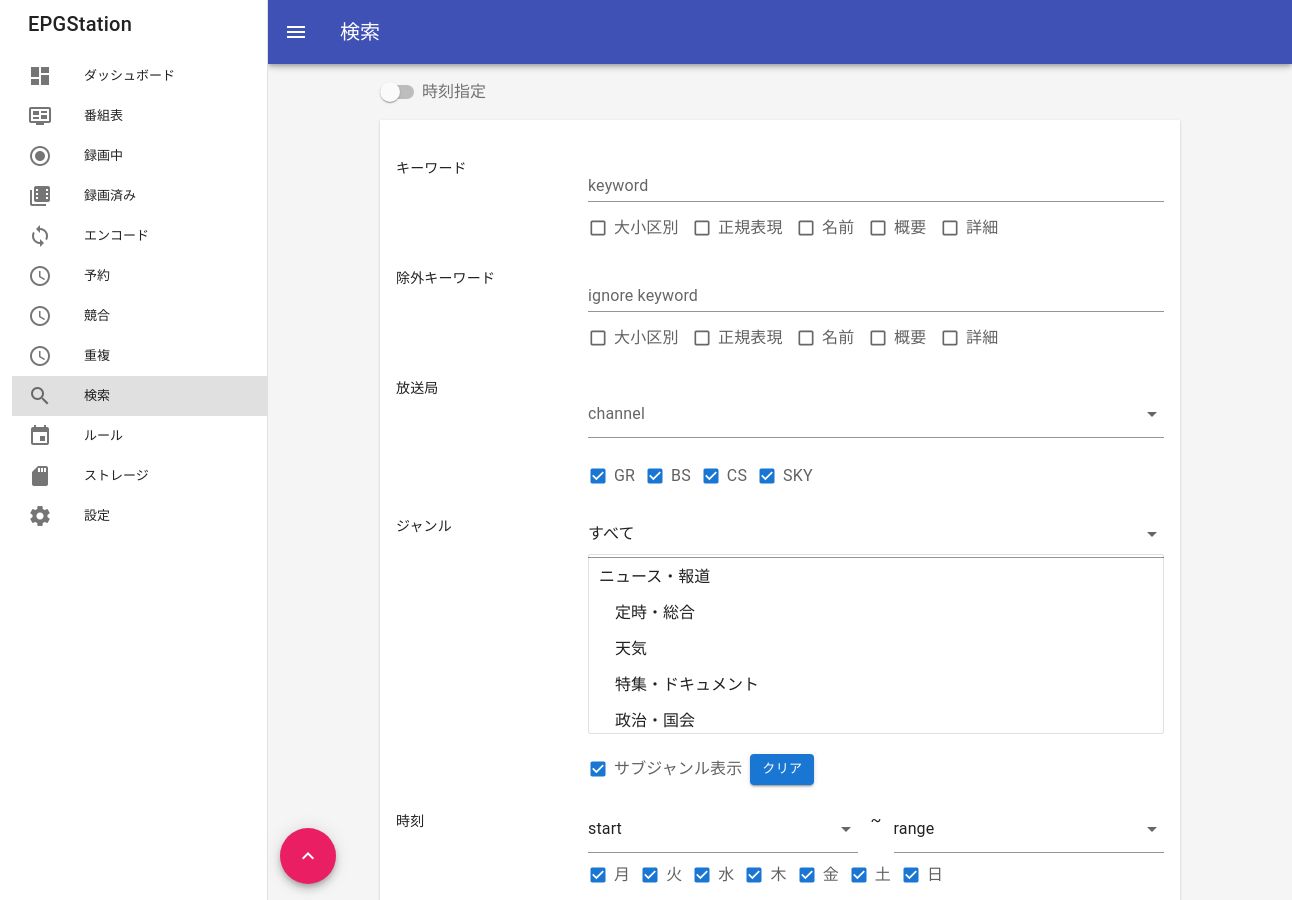
Search route lifecycle › [AC 2.38] lets a plain /search navigation switch to the time-specified rule form
Expected: the heading "検索" is shown, [340,20,380,44]
Expected: the field labelled "keyword" is shown, [588,170,1164,202]
Click the switch labelled "時刻指定". click: point(433, 92)
box: [380,76,486,108]
(page scrolled)
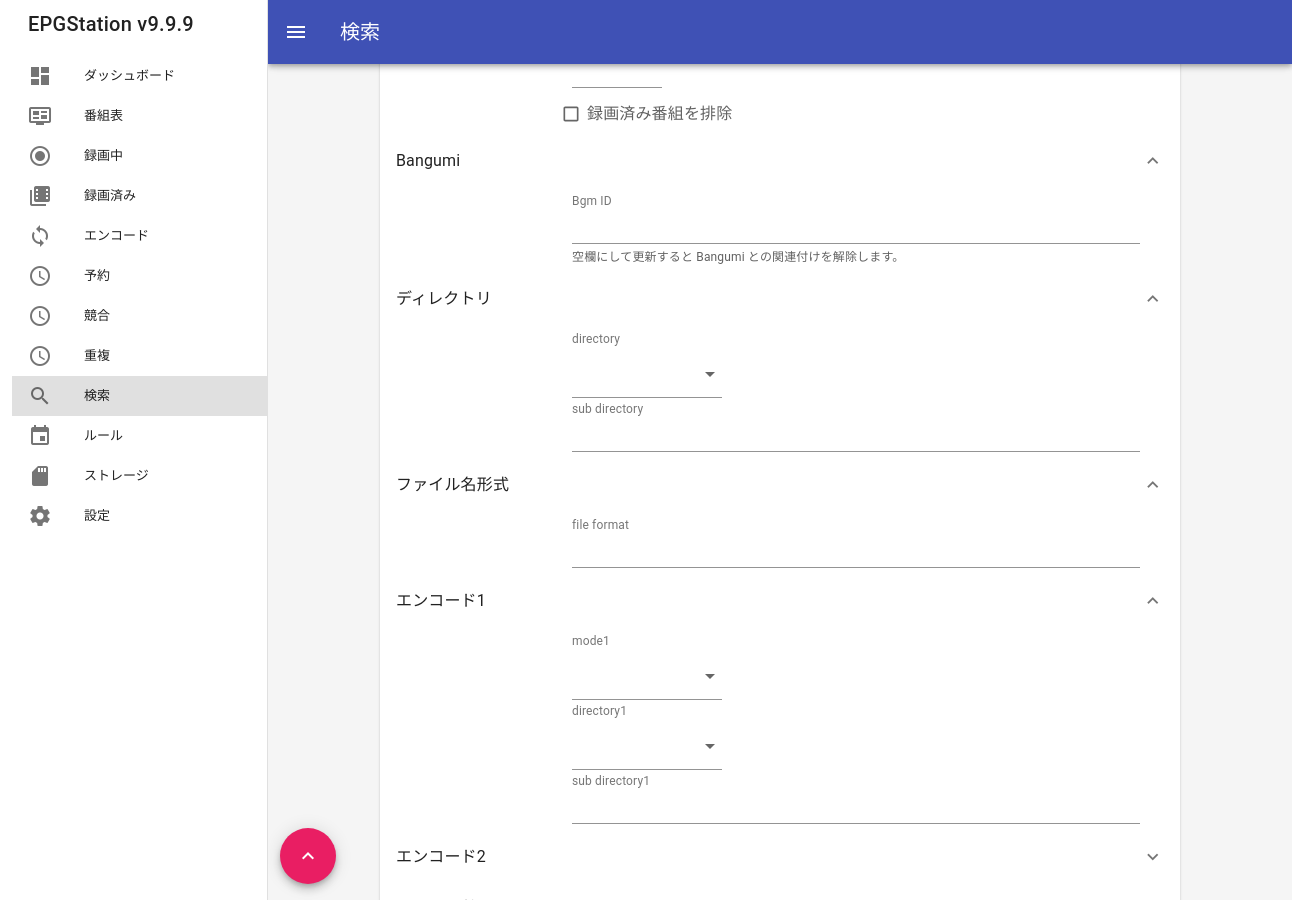
Expected: the text "keyword" is gone
